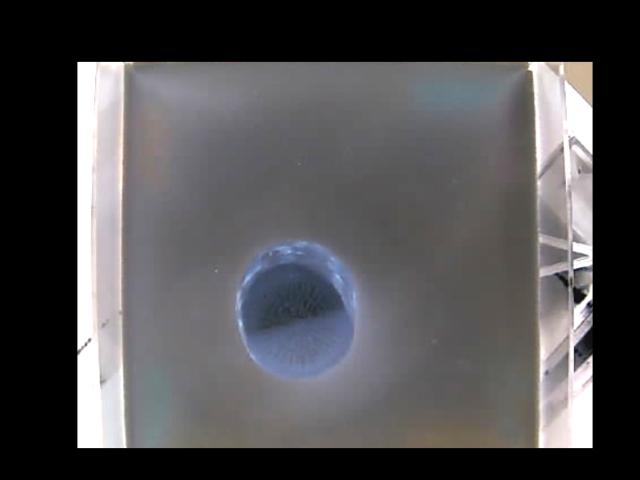Mooli: (235, 238, 354, 373)
